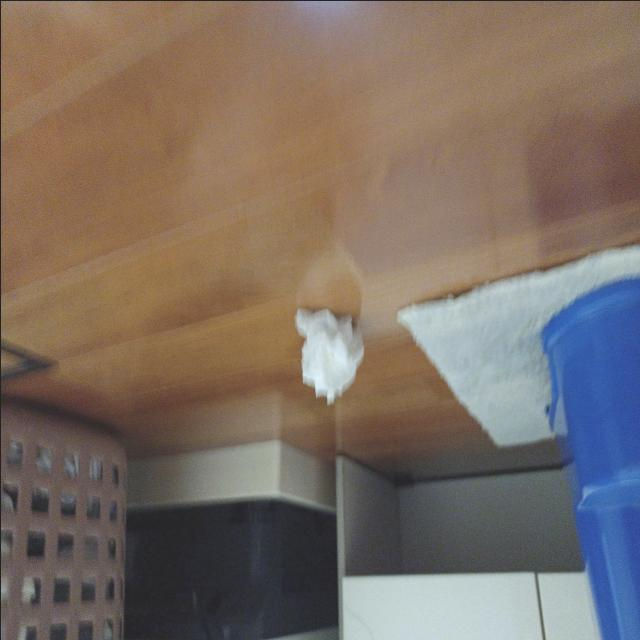Paper: (286, 299, 376, 404)
